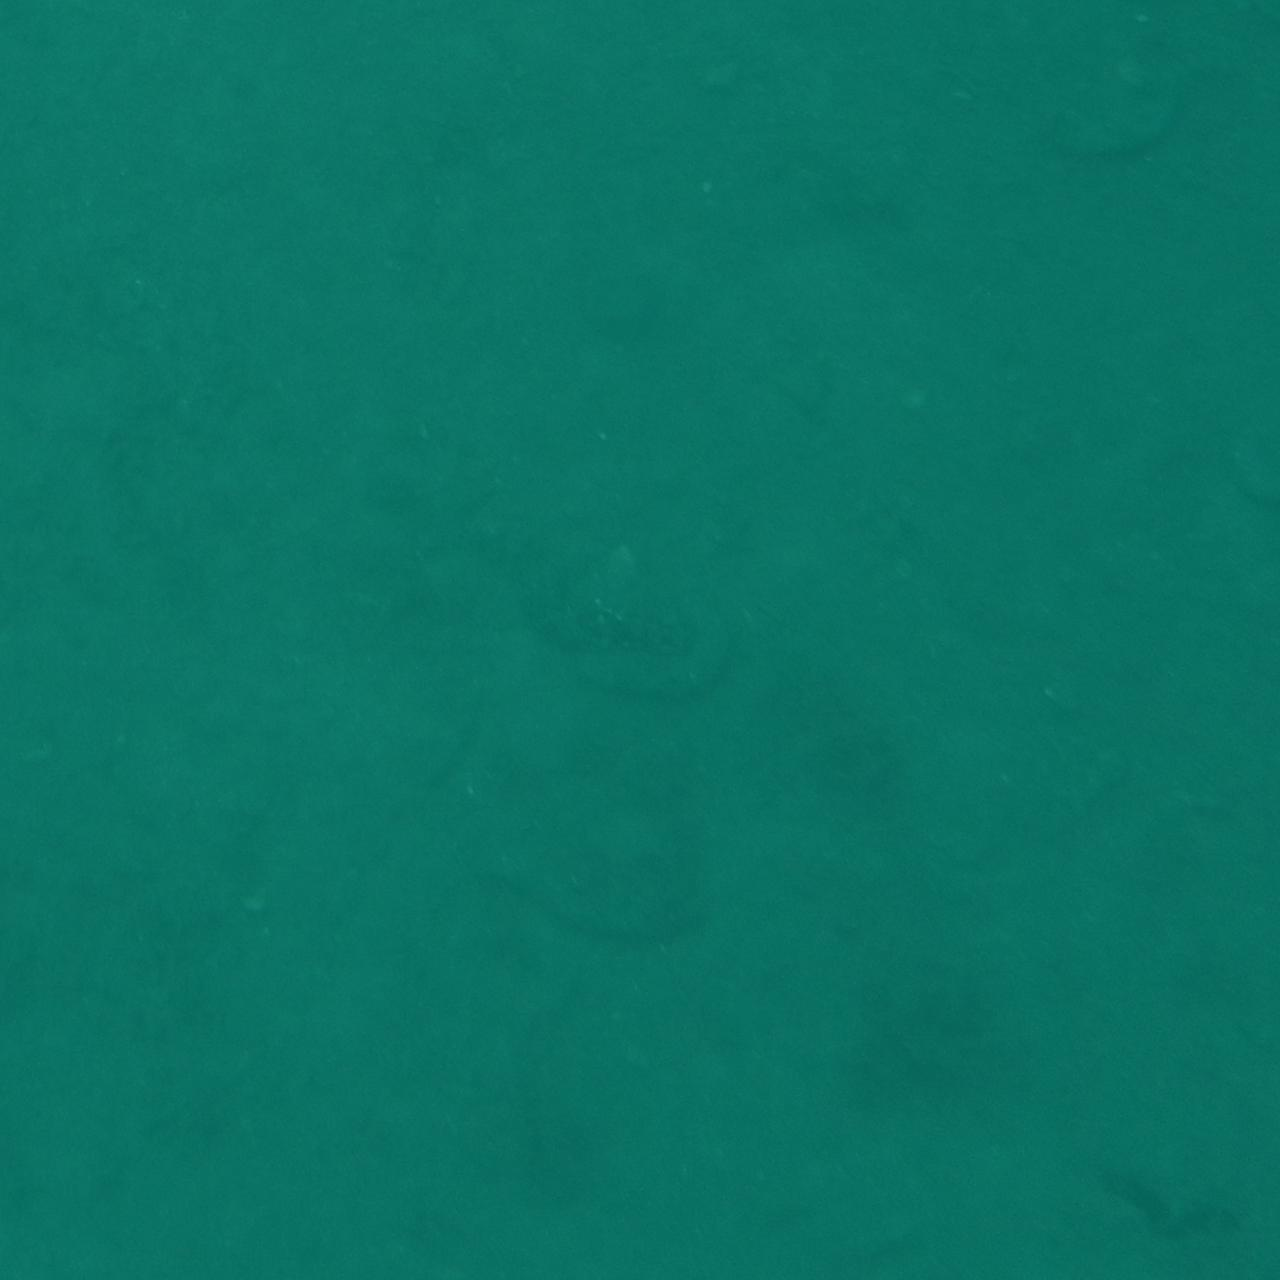Holothuria tubulosa: (522, 549, 758, 731)
